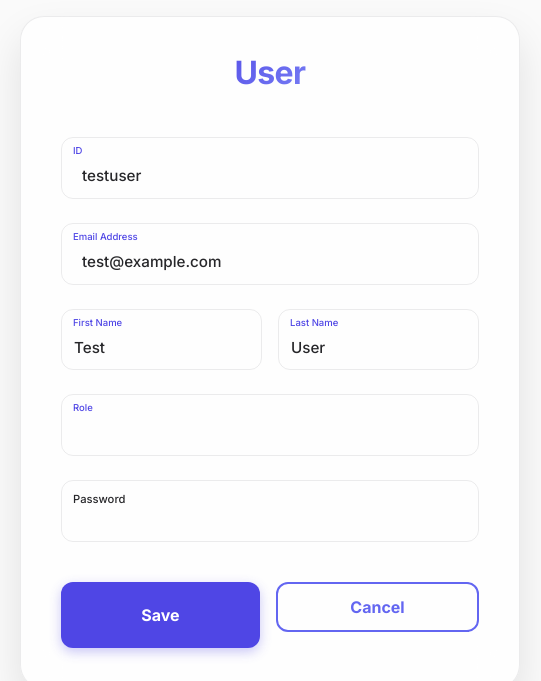
User View › shows a raw error string when no translation exists
Click the button "Save" at (160, 615), box [61,582,260,648]
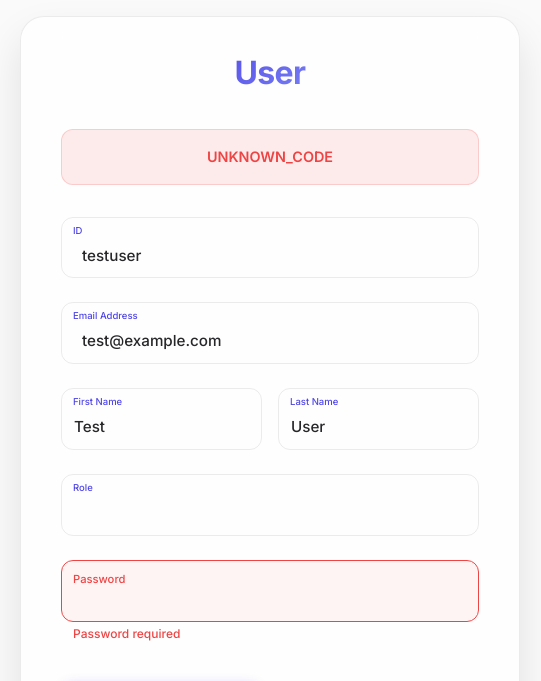
Now the text "UNKNOWN_CODE" is shown, box [61,129,479,185]
